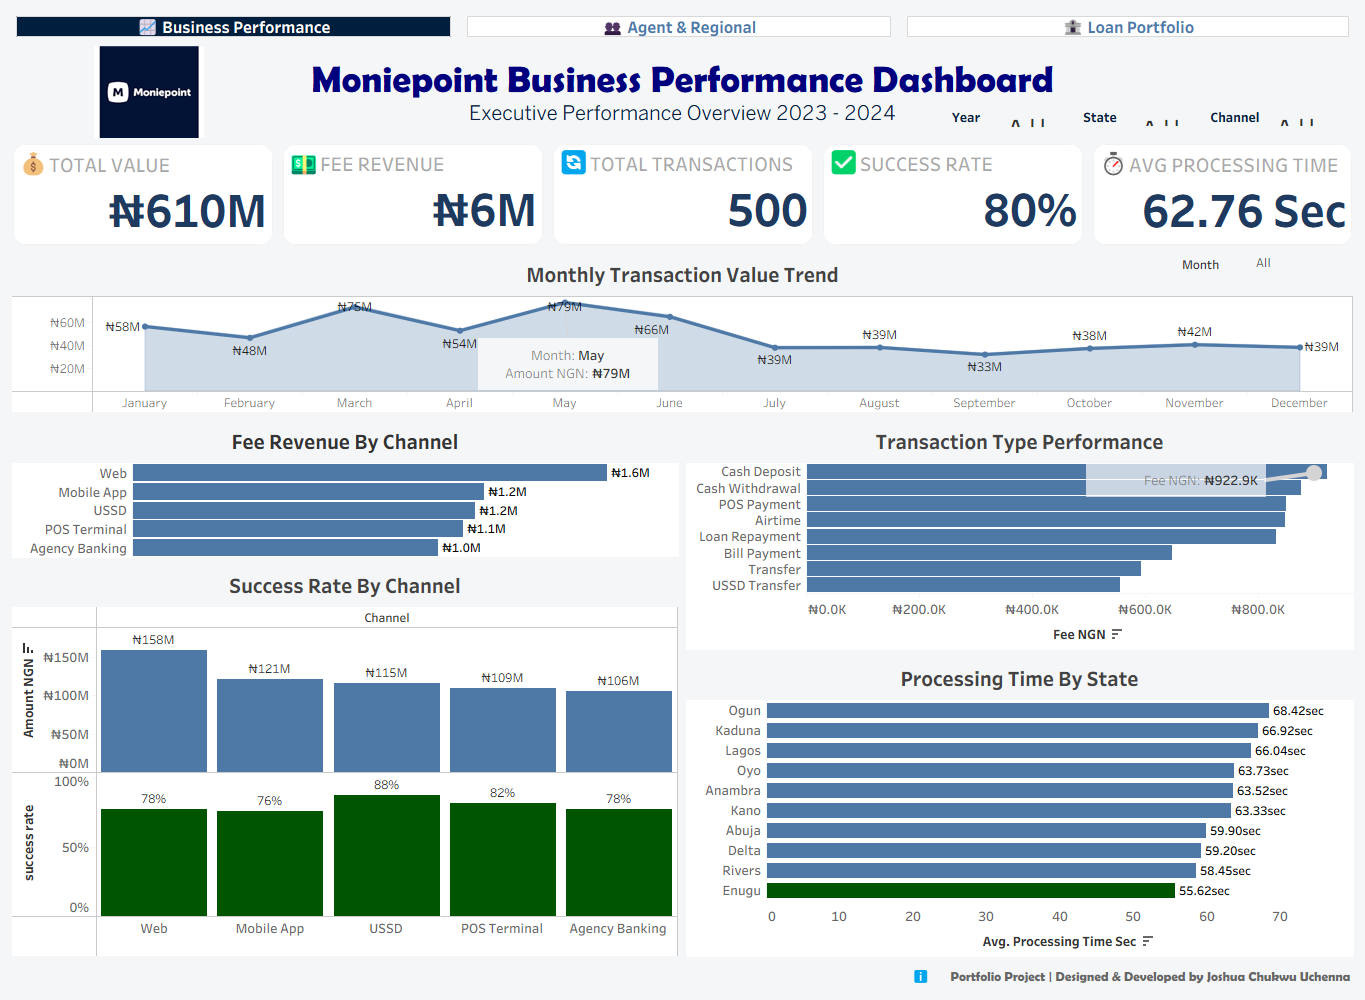

The page's visual inventory and layout, read from the dashboard file:
{"tool":"tableau","page":{"name":"Business Performance Dashboard","canvas":[1365,1000],"ordinal":1},"visuals":[{"type":"dashboard-object","box":[8,8,451,37]},{"type":"dashboard-object","box":[459,8,440,37]},{"type":"dashboard-object","box":[899,8,458,37]},{"type":"text","box":[8,45,1349,93.7]},{"type":"image","param":"Image/download.png","box":[16,46,267,92]},{"type":"filter","title":"Total Transaction Value (₦)","param":"[federated.0p7jy2t1e3he691fx9l5j1cicvz7].[none:Year:ok]","box":[930,107,132,20]},{"type":"filter","title":"Total Transaction Value (₦)","param":"[federated.0p7jy2t1e3he691fx9l5j1cicvz7].[none:Channel:nk]","box":[1199,107,143,19]},{"type":"filter","title":"Total Transaction Value (₦)","param":"[federated.0p7jy2t1e3he691fx9l5j1cicvz7].[none:State:nk]","box":[1064,108,136,18]},{"type":"worksheet","title":"Total Transaction Value (₦)","mark":"Text","box":[8,139,270,111]},{"type":"worksheet","title":"KPI – Fee Revenue","mark":"Text","box":[278,139,270,111]},{"type":"worksheet","title":"KPI - Total Transaction","mark":"Text","box":[548,139,270,111]},{"type":"worksheet","title":"KPI - SUCCESS RATE ","mark":"Text","box":[818,139,270,111]},{"type":"worksheet","title":"Average Processing Time","mark":"Automatic","box":[1088,139,269,111]},{"type":"worksheet","title":"Monthly Transaction Value Trend","mark":"Line","rows":["Amount_NGN","Amount_NGN"],"cols":["Month"],"box":[8,250,1349,166.6]},{"type":"filter","title":"Monthly Transaction Value Trend","param":"[federated.0p7jy2t1e3he691fx9l5j1cicvz7].[none:Month:nk]","box":[1182,254,168,21]},{"type":"worksheet","title":"Fee Revenue By Channel ","mark":"Bar","rows":["Channel"],"cols":["Fee_NGN"],"box":[8,416.6,674,144.2]},{"type":"worksheet","title":"Transaction Type Performance","mark":"Automatic","rows":["Transaction_Type"],"cols":["Fee_NGN"],"box":[682,416.6,675,237]},{"type":"worksheet","title":"Success Rate by Channel","mark":"Automatic","rows":["Amount_NGN","Calculation_1100911460999169"],"cols":["Channel"],"box":[8,560.8,674,400.4]},{"type":"worksheet","title":"Processing Time by State","mark":"Automatic","rows":["State"],"cols":["Processing_Time_Sec"],"box":[682,654,675,307]},{"type":"text","box":[8,961.2,1349,30.8]}]}

Visuals, with their boxes in screenshot pixels (x1, y1, x2, y2), scaled from the page's 1365x1000 canvas onto the 1365x1000 screenshot:
dashboard-object: (8, 8, 459, 45)
dashboard-object: (459, 8, 899, 45)
dashboard-object: (899, 8, 1357, 45)
text: (8, 45, 1357, 139)
image: (16, 46, 283, 138)
"Total Transaction Value (₦)" filter: (930, 107, 1062, 127)
"Total Transaction Value (₦)" filter: (1199, 107, 1342, 126)
"Total Transaction Value (₦)" filter: (1064, 108, 1200, 126)
"Total Transaction Value (₦)" worksheet (Text marks): (8, 139, 278, 250)
"KPI – Fee Revenue" worksheet (Text marks): (278, 139, 548, 250)
"KPI - Total Transaction" worksheet (Text marks): (548, 139, 818, 250)
"KPI - SUCCESS RATE " worksheet (Text marks): (818, 139, 1088, 250)
"Average Processing Time" worksheet: (1088, 139, 1357, 250)
"Monthly Transaction Value Trend" worksheet (Line marks): (8, 250, 1357, 417)
"Monthly Transaction Value Trend" filter: (1182, 254, 1350, 275)
"Fee Revenue By Channel " worksheet (Bar marks): (8, 417, 682, 561)
"Transaction Type Performance" worksheet: (682, 417, 1357, 654)
"Success Rate by Channel" worksheet: (8, 561, 682, 961)
"Processing Time by State" worksheet: (682, 654, 1357, 961)
text: (8, 961, 1357, 992)
